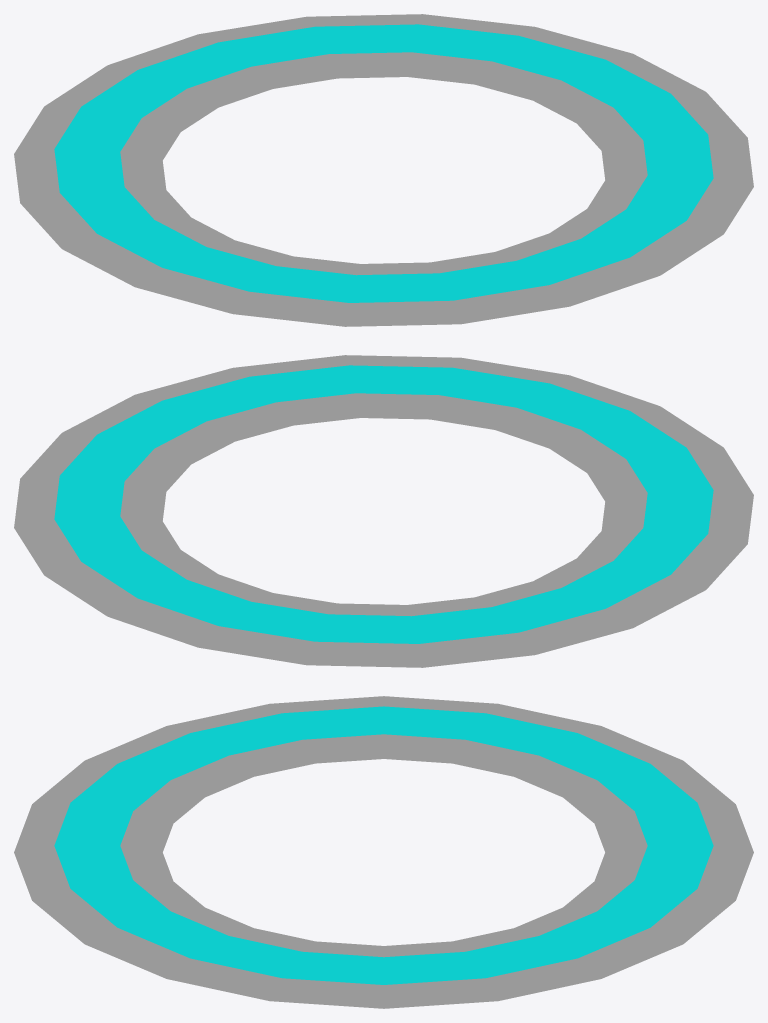
Rendered from energyWave.fbx.
The picture shows the model from 3 angles, top to bottom: view 1: azimuth 30°, elevation 25°; view 2: azimuth 150°, elevation 25°; view 3: azimuth 270°, elevation 25°; orthographic projection.
Parts seen in each view (by area): view 1: energyWave; view 2: energyWave; view 3: energyWave.
Part boxes in pixels (x1,y1,x2,y2): energyWave: [14, 14, 753, 326]; energyWave: [14, 355, 753, 667]; energyWave: [14, 696, 753, 1008].
Bounding box in the file's own units: 18.71 × 0.1876 × 18.71.
